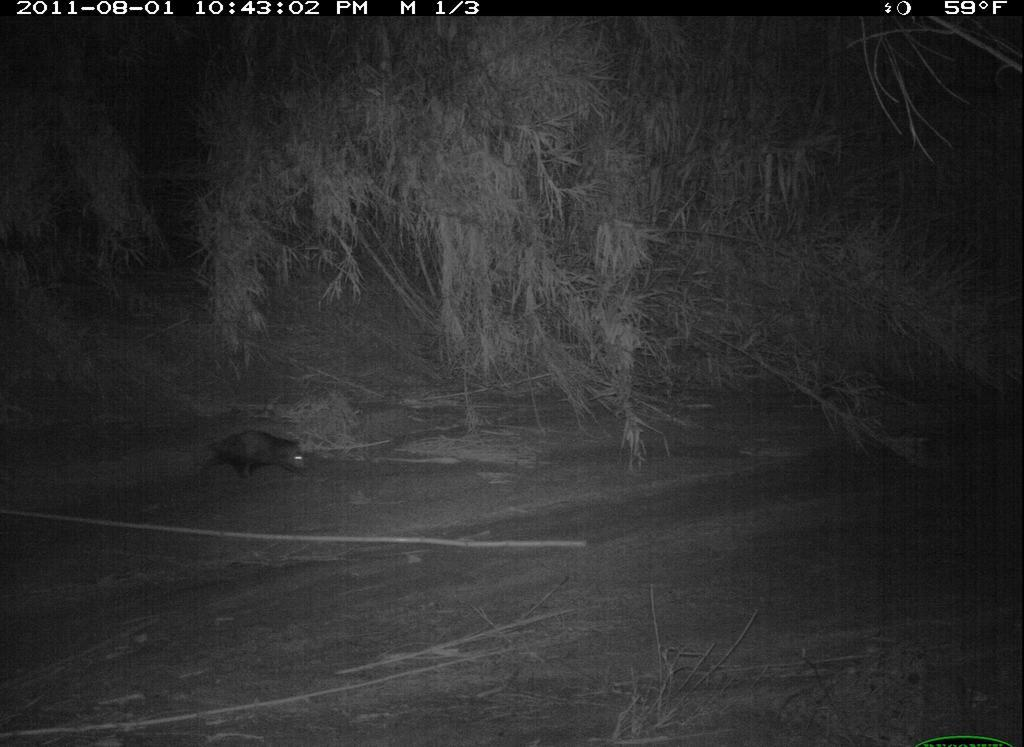opossum: (178, 424, 312, 488)
